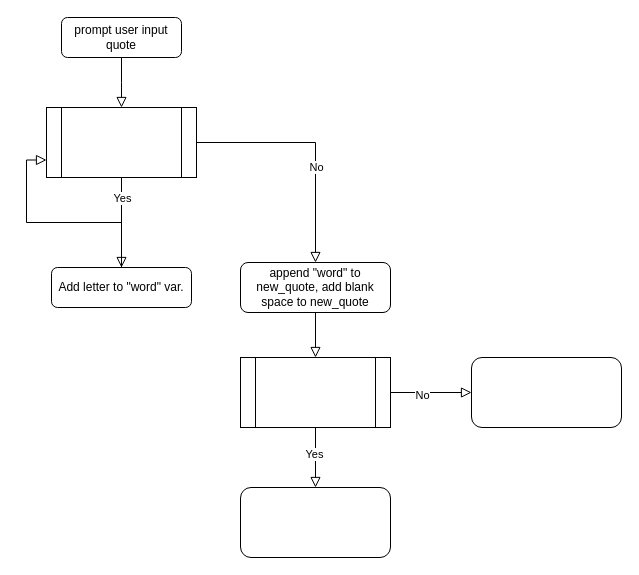
The diagram is 639 pixels wide and 575 high, and some of its shapes have lost their labels. Here are the shapes that lost their labels. From the top down, the centre of each, then its label:
the point at 121,142: FOR STATEMENT is "letter" alphabetical?
the point at 315,392: IF STATEMENT does "word" start with a letter "less than" g ?
